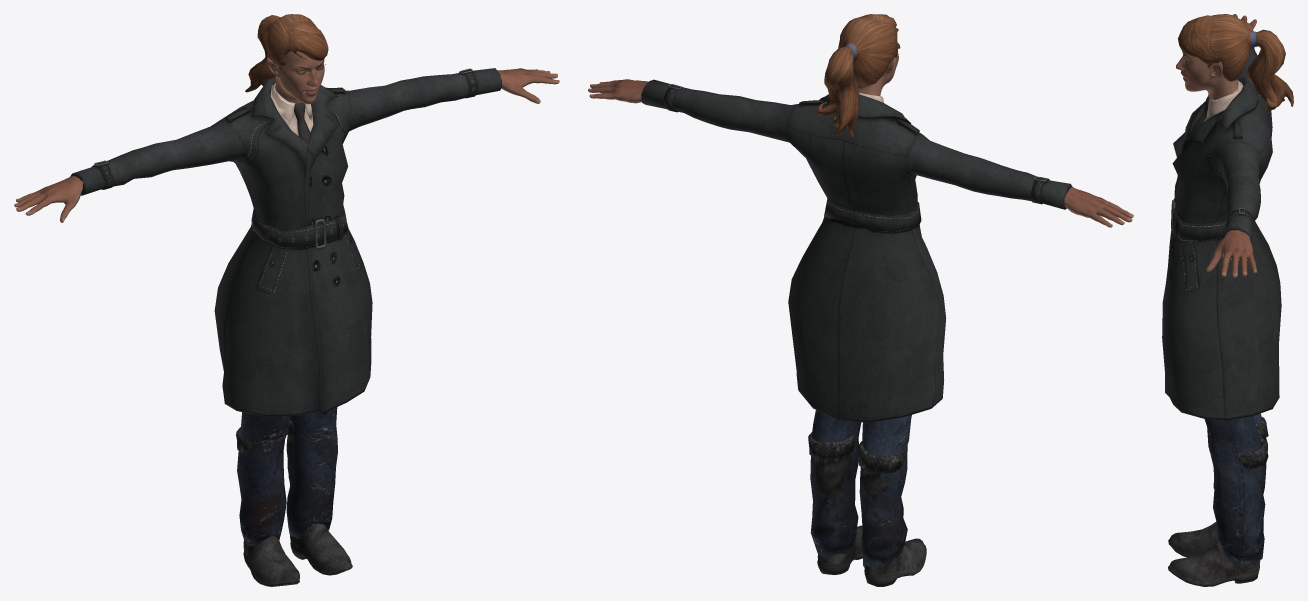
3 renders of one model, left to right at view 1: azimuth 30°, elevation 25°; view 2: azimuth 150°, elevation 25°; view 3: azimuth 270°, elevation 25°, orthographic.
Visible parts, largest first — view 1: Tops, Bottoms, Body, Shoes, Hair; view 2: Tops, Bottoms, Shoes, Hair, Body; view 3: Tops, Bottoms, Hair, Shoes, Body.
Boxes of the visible parts, bbox=[...] form: Tops: bbox=[70, 68, 502, 416]; Bottoms: bbox=[237, 407, 337, 546]; Body: bbox=[14, 50, 559, 222]; Shoes: bbox=[236, 420, 352, 586]; Hair: bbox=[245, 14, 328, 92]; Tops: bbox=[641, 79, 1072, 422]; Bottoms: bbox=[810, 410, 911, 567]; Shoes: bbox=[808, 432, 926, 586]; Hair: bbox=[817, 14, 898, 138]; Body: bbox=[588, 41, 1133, 227]; Tops: bbox=[1162, 47, 1281, 420]; Bottoms: bbox=[1204, 413, 1265, 566]; Hair: bbox=[1178, 14, 1293, 111]; Shoes: bbox=[1168, 417, 1268, 586]; Body: bbox=[1176, 14, 1256, 277].
Bounding box in the file's own units: 187 × 181 × 39.27.
Materials: 5 (5 with a texture image).
